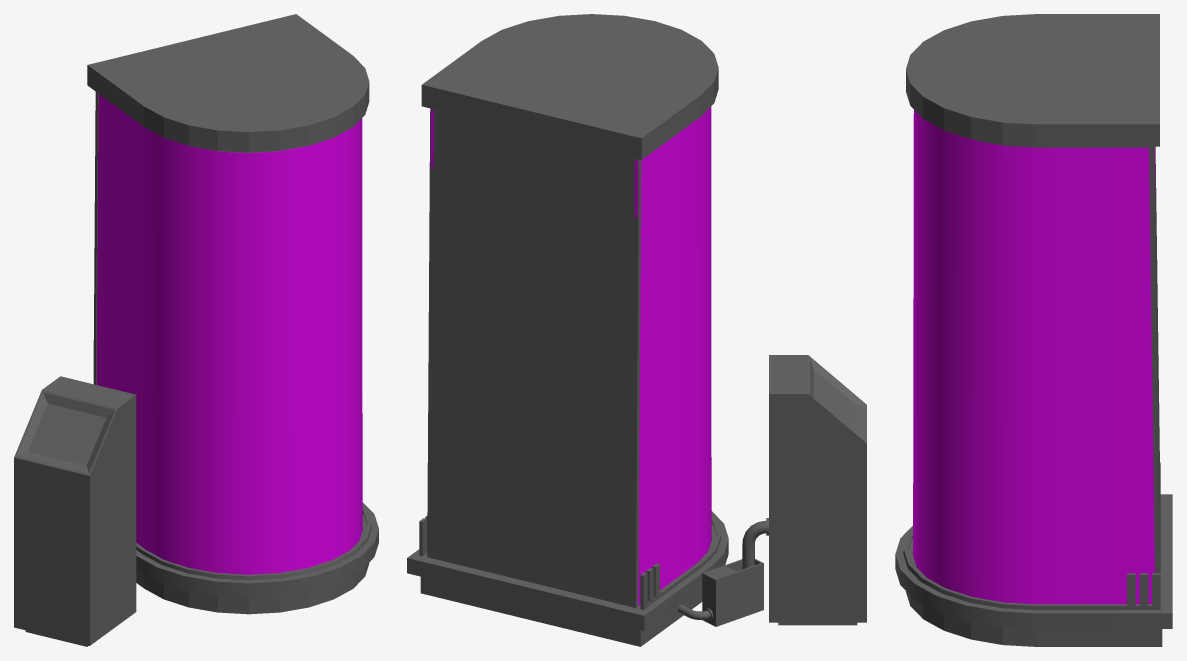
The model's file is vitrine_animated.fbx.
The picture shows the model from 3 angles, left to right: view 1: azimuth 30°, elevation 25°; view 2: azimuth 150°, elevation 25°; view 3: azimuth 270°, elevation 25°; orthographic projection. The views are drawn at different scales.
Parts seen in each view (by area): view 1: vitrine_glass, vitrine_console, vitrine_cap, vitrine_platform, vitrine_detail_bottom; view 2: vitrine_platform, vitrine_glass, vitrine_cap, vitrine_console, vitrine_console_detail, vitrine_detail_bottom, vitrine_tubes; view 3: vitrine_glass, vitrine_cap, vitrine_platform, vitrine_detail_bottom.
Boxes of the visible parts, x1=… form: vitrine_glass: x1=96, y1=94, x2=362, y2=574; vitrine_console: x1=14, y1=376, x2=136, y2=646; vitrine_cap: x1=87, y1=14, x2=369, y2=152; vitrine_platform: x1=93, y1=92, x2=378, y2=614; vitrine_detail_bottom: x1=136, y1=506, x2=371, y2=580; vitrine_platform: x1=407, y1=109, x2=728, y2=646; vitrine_glass: x1=430, y1=106, x2=711, y2=605; vitrine_cap: x1=421, y1=14, x2=718, y2=159; vitrine_console: x1=769, y1=355, x2=866, y2=625; vitrine_console_detail: x1=702, y1=559, x2=763, y2=626; vitrine_detail_bottom: x1=419, y1=516, x2=721, y2=609; vitrine_tubes: x1=678, y1=518, x2=768, y2=620; vitrine_glass: x1=913, y1=110, x2=1154, y2=604; vitrine_cap: x1=906, y1=14, x2=1159, y2=146; vitrine_platform: x1=895, y1=146, x2=1172, y2=646; vitrine_detail_bottom: x1=903, y1=462, x2=1160, y2=610.
Bounding box in the file's own units: 68.23 × 41.89 × 87.17.
